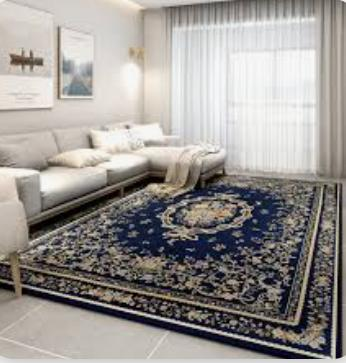carpet: (14, 155, 345, 353)
